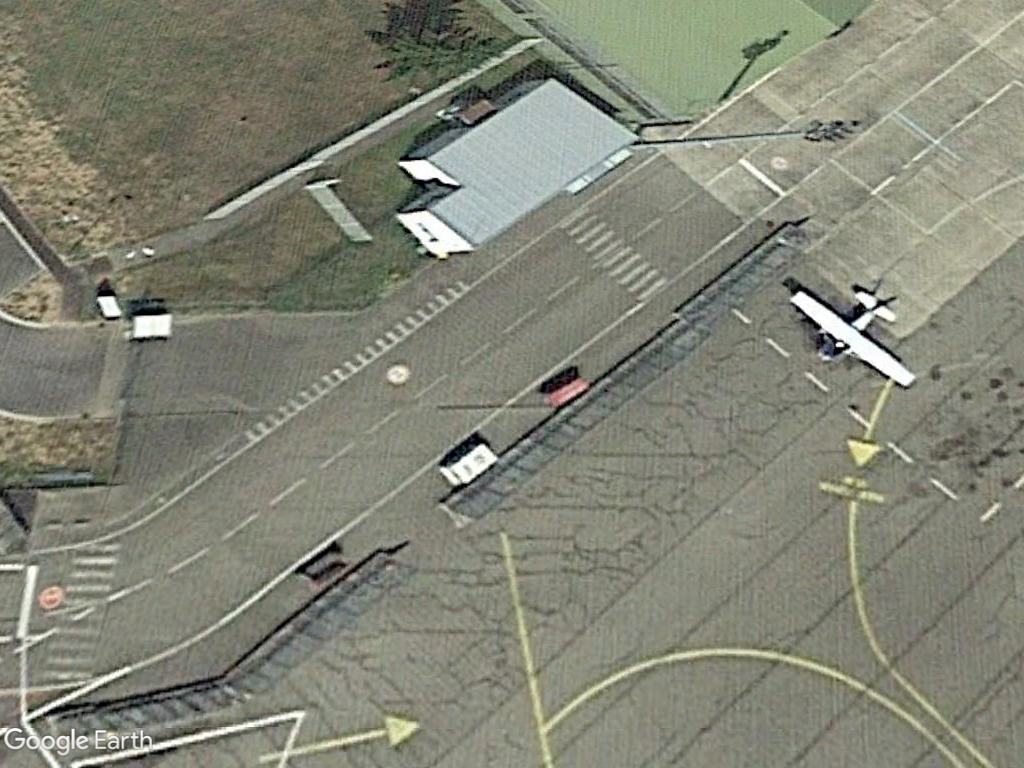trainer: (778, 281, 918, 388)
